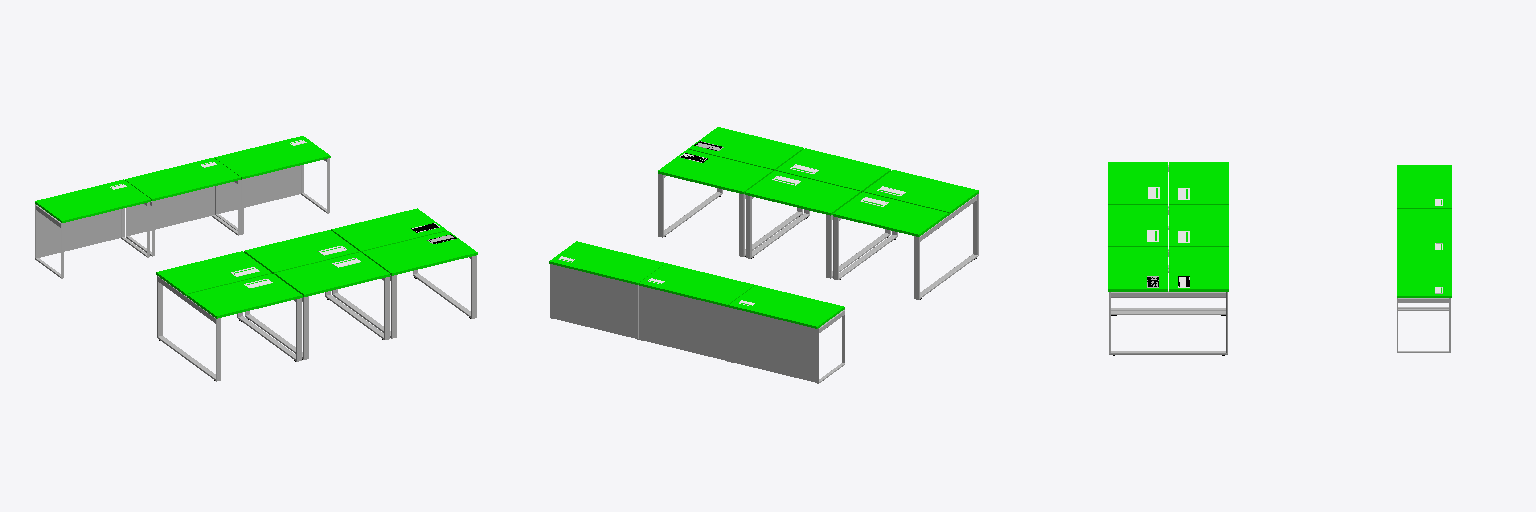
3 renders of one model, left to right at view 1: azimuth 30°, elevation 25°; view 2: azimuth 150°, elevation 25°; view 3: azimuth 270°, elevation 25°, orthographic.
Parts seen in each view (by area): view 1: nocable#$con|10|BOQ50|1001#$top|1.002_M106.030, nocable#$con|10|BOQ50|1001#$top|1.001_M106.028, nocable#$con|10|BOQ50|1001#$top|1_M106.026, 2nocable#$con|10|BOQ35|1001#$top|1.002_M106.035, 2nocable#$con|10|BOQ35|1001#$top|1.001_M106.034, 2nocable#$con|10|BOQ35|1001#$top|1_M106.056, 2nocable#$con|10|BOQ50|1001#$top|1.002_M106.031, 2nocable#$con|10|BOQ50|1001#$top|1.001_M106.029, Cube.002_Cube.012, 2nocable#$con|10|BOQ50|1001#$top|1_M106.020, Cube_Cube.010, Cube.001_Cube.011 (+6 smaller); view 2: Cube_Cube.010, Cube.002_Cube.012, Cube.001_Cube.011, 2nocable#$con|10|BOQ50|1001#$top|1.002_M106.031, 2nocable#$con|10|BOQ50|1001#$top|1.001_M106.029, 2nocable#$con|10|BOQ50|1001#$top|1_M106.020, 2nocable#$con|10|BOQ35|1001#$top|1.002_M106.035, 2nocable#$con|10|BOQ35|1001#$top|1.001_M106.034, 2nocable#$con|10|BOQ35|1001#$top|1_M106.056, nocable#$con|10|BOQ50|1001#$top|1.002_M106.030, nocable#$con|10|BOQ50|1001#$top|1.001_M106.028, nocable#$con|10|BOQ50|1001#$top|1_M106.026 (+3 smaller); view 3: 2nocable#$con|10|BOQ50|1001#$top|1_M106.020, nocable#$con|10|BOQ50|1001#$top|1_M106.026, 2nocable#$con|10|BOQ35|1001#$top|1_M106.056, nocable#$con|10|BOQ50|1001#$top|1.002_M106.030, 2nocable#$con|10|BOQ50|1001#$top|1.002_M106.031, nocable#$con|10|BOQ50|1001#$top|1.001_M106.028, 2nocable#$con|10|BOQ50|1001#$top|1.001_M106.029, 2nocable#$con|10|BOQ35|1001#$top|1.002_M106.035, 2nocable#$con|10|BOQ35|1001#$top|1.001_M106.034, 12f#$con|0|BOQ50#$frame|1_M188.003, 12f#$con|0|BOQ35#$frame|1_M188.009.
Part boxes in pixels (bbox=[...]): nocable#$con|10|BOQ50|1001#$top|1.002_M106.030: bbox=[187, 274, 302, 318]; nocable#$con|10|BOQ50|1001#$top|1.001_M106.028: bbox=[275, 252, 389, 296]; nocable#$con|10|BOQ50|1001#$top|1_M106.026: bbox=[362, 231, 477, 275]; 2nocable#$con|10|BOQ35|1001#$top|1.002_M106.035: bbox=[35, 179, 150, 222]; 2nocable#$con|10|BOQ35|1001#$top|1.001_M106.034: bbox=[125, 158, 240, 200]; 2nocable#$con|10|BOQ35|1001#$top|1_M106.056: bbox=[214, 136, 330, 179]; 2nocable#$con|10|BOQ50|1001#$top|1.002_M106.031: bbox=[156, 251, 271, 295]; 2nocable#$con|10|BOQ50|1001#$top|1.001_M106.029: bbox=[244, 230, 359, 274]; Cube.002_Cube.012: bbox=[38, 208, 124, 257]; 2nocable#$con|10|BOQ50|1001#$top|1_M106.020: bbox=[331, 208, 446, 252]; Cube_Cube.010: bbox=[218, 165, 300, 213]; Cube.001_Cube.011: bbox=[129, 187, 211, 235]; Cube_Cube.010: bbox=[550, 264, 638, 338]; Cube.002_Cube.012: bbox=[728, 307, 816, 382]; Cube.001_Cube.011: bbox=[639, 286, 727, 360]; 2nocable#$con|10|BOQ50|1001#$top|1.002_M106.031: bbox=[833, 192, 948, 236]; 2nocable#$con|10|BOQ50|1001#$top|1.001_M106.029: bbox=[745, 171, 860, 215]; 2nocable#$con|10|BOQ50|1001#$top|1_M106.020: bbox=[658, 149, 772, 193]; 2nocable#$con|10|BOQ35|1001#$top|1.002_M106.035: bbox=[728, 285, 844, 328]; 2nocable#$con|10|BOQ35|1001#$top|1.001_M106.034: bbox=[639, 263, 754, 306]; 2nocable#$con|10|BOQ35|1001#$top|1_M106.056: bbox=[549, 241, 664, 284]; nocable#$con|10|BOQ50|1001#$top|1.002_M106.030: bbox=[863, 170, 978, 214]; nocable#$con|10|BOQ50|1001#$top|1.001_M106.028: bbox=[776, 148, 890, 192]; nocable#$con|10|BOQ50|1001#$top|1_M106.026: bbox=[688, 127, 803, 170]; 2nocable#$con|10|BOQ50|1001#$top|1_M106.020: bbox=[1169, 247, 1228, 291]; nocable#$con|10|BOQ50|1001#$top|1_M106.026: bbox=[1108, 247, 1167, 291]; 2nocable#$con|10|BOQ35|1001#$top|1_M106.056: bbox=[1397, 252, 1451, 297]; nocable#$con|10|BOQ50|1001#$top|1.002_M106.030: bbox=[1108, 162, 1167, 204]; 2nocable#$con|10|BOQ50|1001#$top|1.002_M106.031: bbox=[1169, 162, 1228, 204]; nocable#$con|10|BOQ50|1001#$top|1.001_M106.028: bbox=[1108, 205, 1167, 246]; 2nocable#$con|10|BOQ50|1001#$top|1.001_M106.029: bbox=[1169, 205, 1228, 246]; 2nocable#$con|10|BOQ35|1001#$top|1.002_M106.035: bbox=[1397, 165, 1451, 208]; 2nocable#$con|10|BOQ35|1001#$top|1.001_M106.034: bbox=[1397, 209, 1451, 251]; 12f#$con|0|BOQ50#$frame|1_M188.003: bbox=[1109, 251, 1227, 354]; 12f#$con|0|BOQ35#$frame|1_M188.009: bbox=[1397, 298, 1449, 352].
Size of the model in its own units: 3.16 by 0.7424 by 3.46.